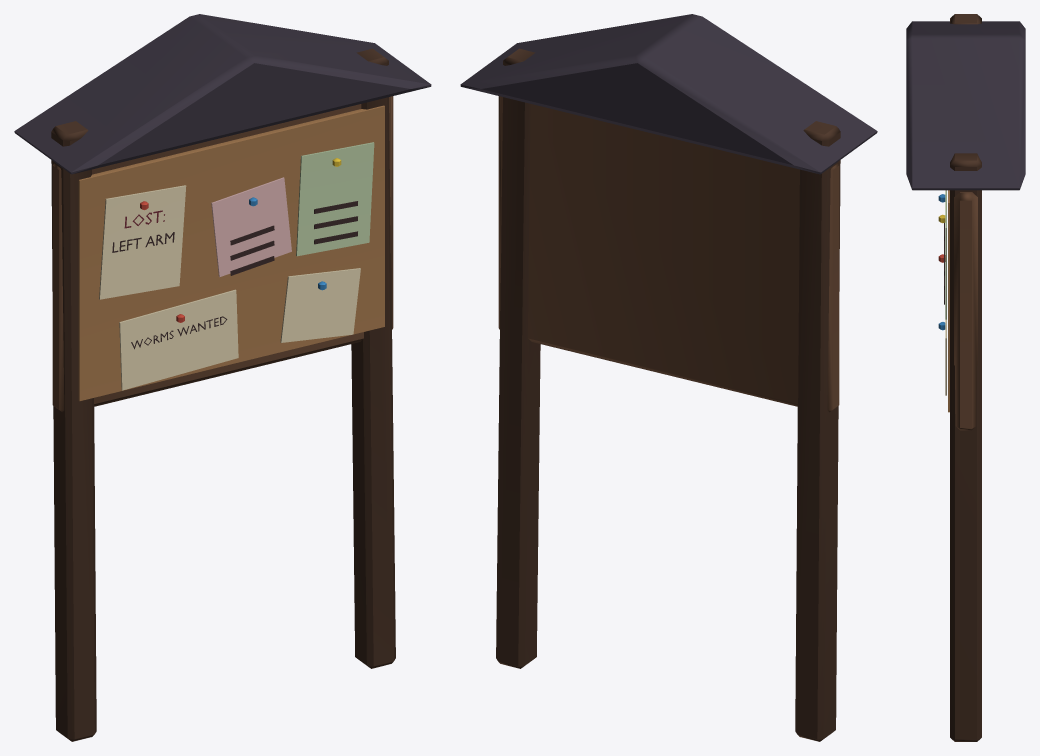
File: board_notice.glb
3 views of the same model, side by side, from view 1: azimuth 30°, elevation 25°; view 2: azimuth 150°, elevation 25°; view 3: azimuth 270°, elevation 25° (orthographic). The views are drawn at different scales.
Parts seen in each view (by area): view 1: board_notice, sign; view 2: board_notice; view 3: board_notice.
Part boxes in pixels (x1,y1,x2,y2): board_notice: (14, 14, 431, 741); sign: (112, 210, 227, 349); board_notice: (460, 14, 877, 741); board_notice: (906, 14, 1025, 741).
Bounding box in the file's own units: 0.9921 × 1.74 × 0.3.
